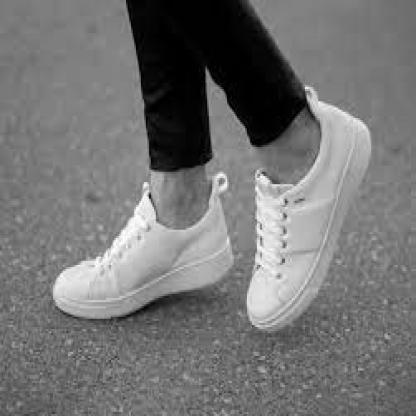ankle: (303, 142, 307, 145), (190, 202, 194, 205)
heel: (354, 121, 358, 127), (228, 237, 229, 241)
left_foot: (249, 115, 372, 333)
pinky: (279, 295, 281, 300), (85, 264, 88, 267)
right_foot: (54, 184, 233, 322)
toe: (70, 294, 73, 298), (252, 303, 253, 306)
